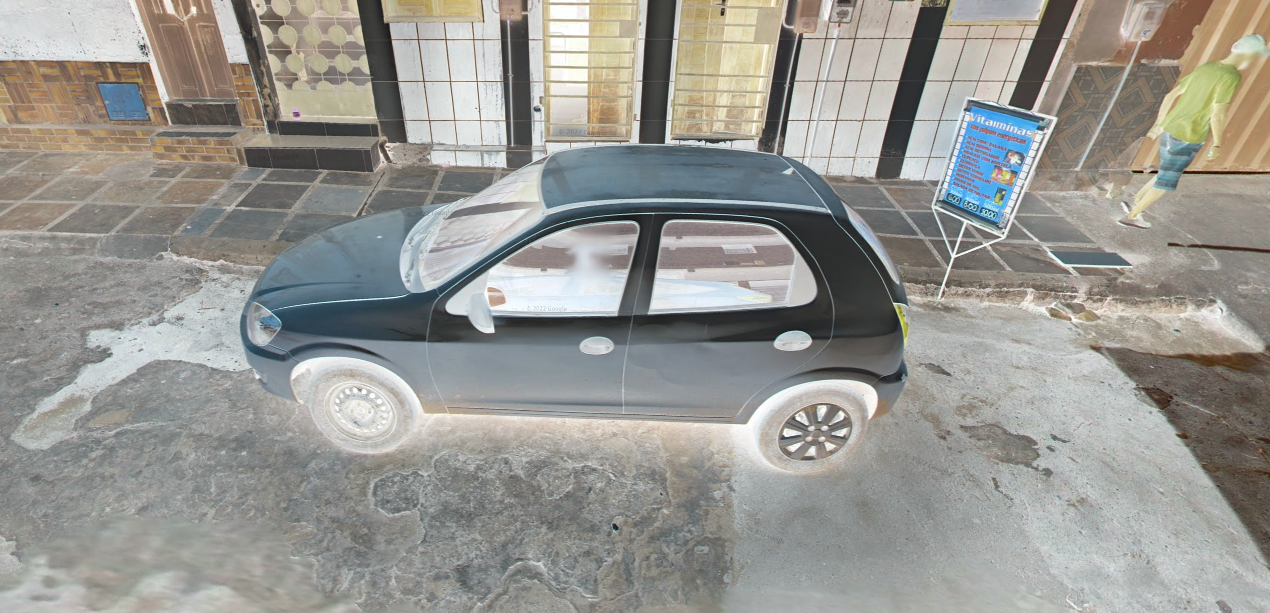car: (233, 135, 916, 512)
